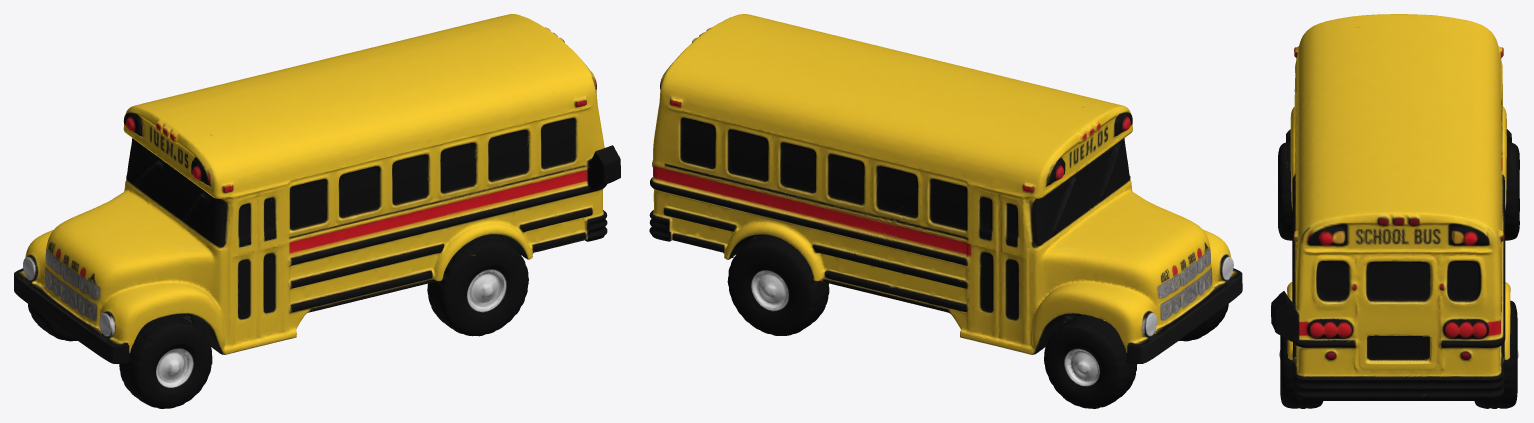
File: cars_truck_schoolbus.glb
3 views of the same model, side by side, from view 1: azimuth 30°, elevation 25°; view 2: azimuth 150°, elevation 25°; view 3: azimuth 270°, elevation 25° (orthographic). The views are drawn at different scales.
Bounding box in the file's own units: 1.9 × 0.8528 × 0.7598.
Materials: 1 (1 with a texture image).
